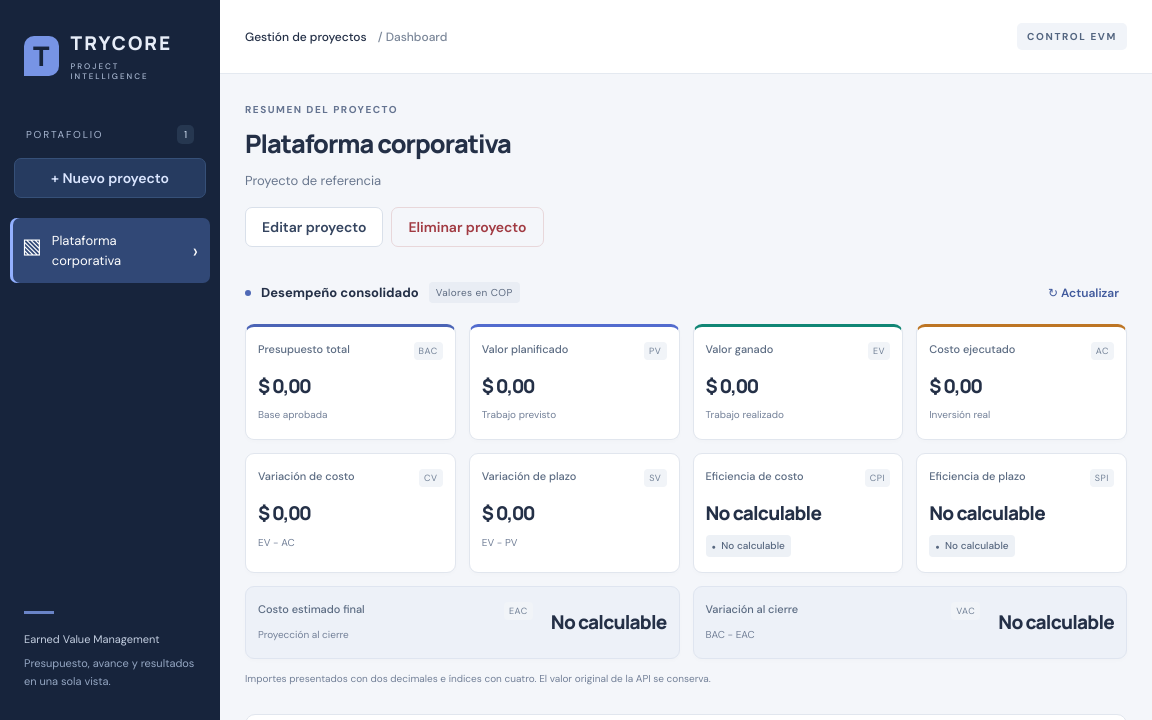
Test case: shows 422 errors in the form and keeps entered values
Click the button "+ Nuevo proyecto".
click(110, 178)  # box [14, 158, 206, 198]
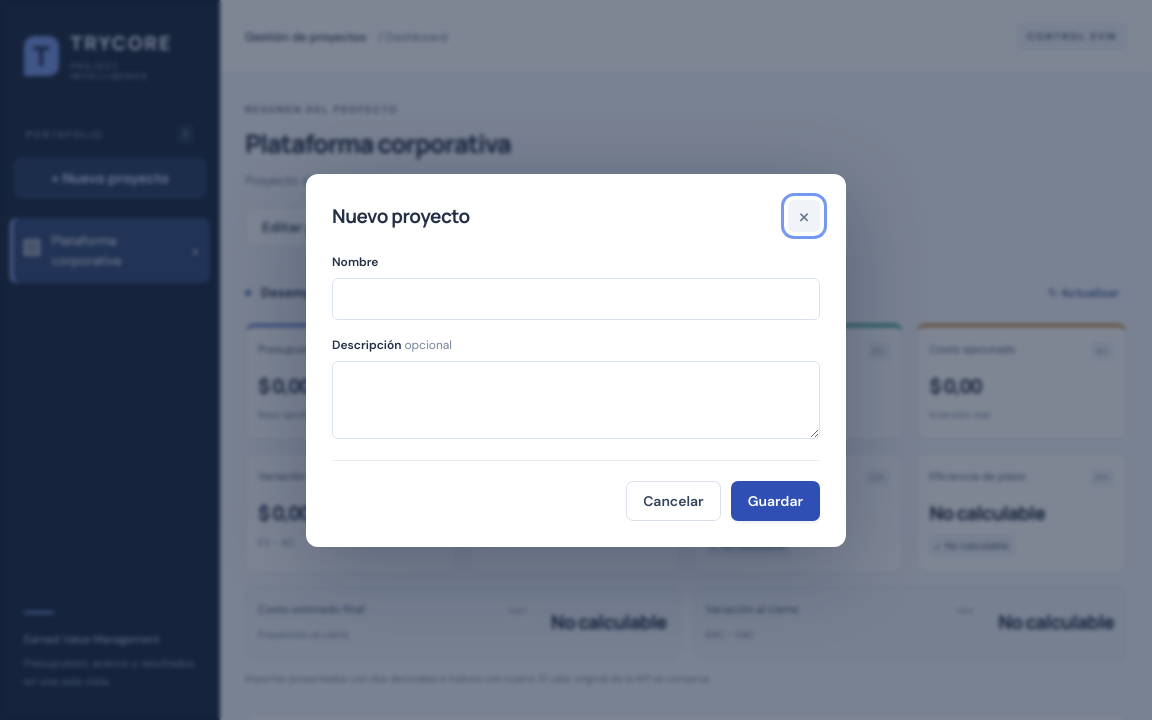
Type "Duplicado" into the field labelled "Nombre".
click(576, 298); type("Duplicado")  # box [332, 278, 820, 320]
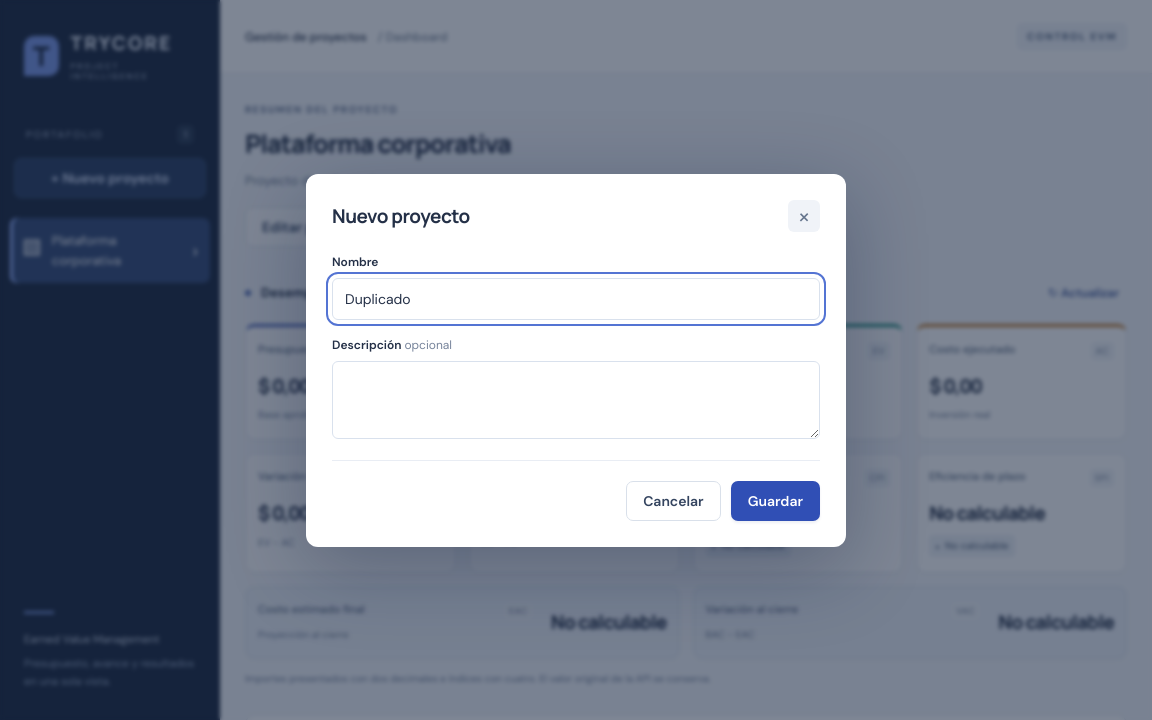
Click the button "Guardar".
click(775, 500)  # box [731, 480, 820, 520]
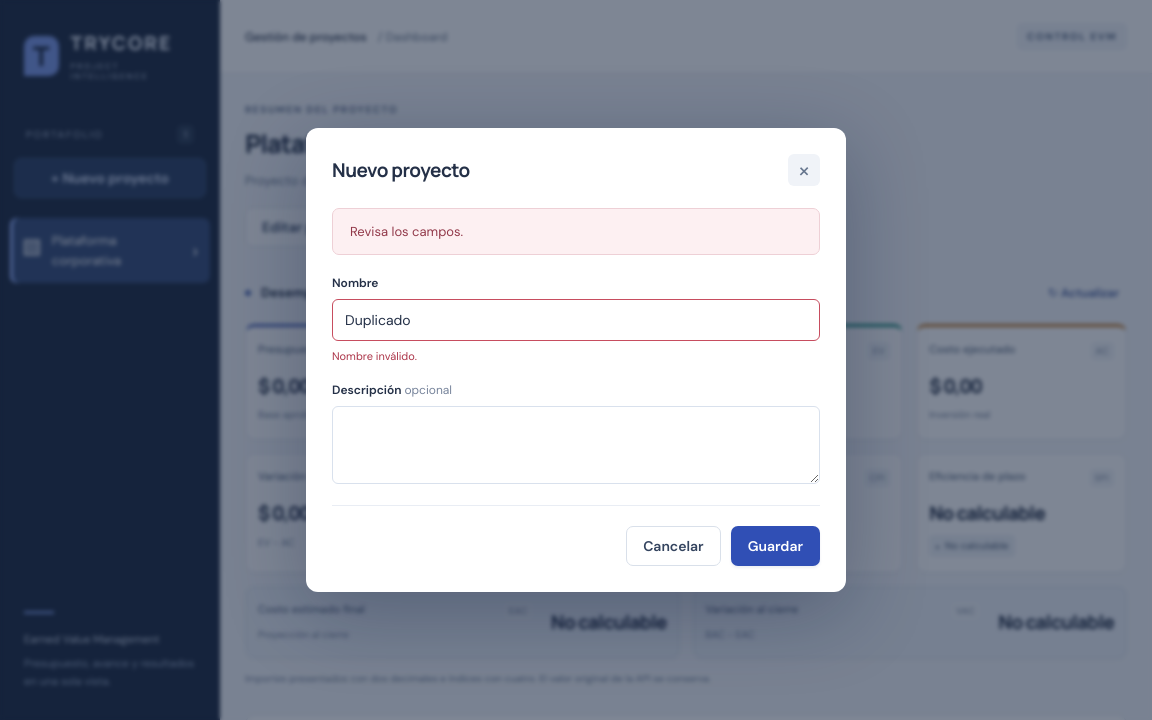
Expected: the message shows "Revisa los campos", [350, 223, 463, 240]
Expected: the text "Nombre inválido." is shown, [332, 349, 417, 363]
